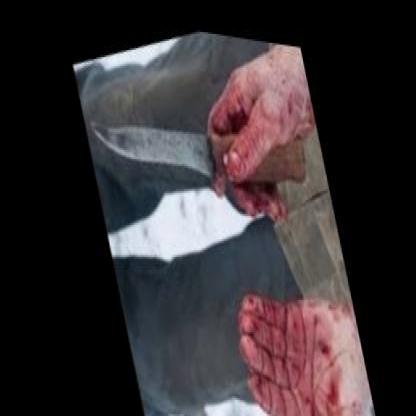knife: (80, 48, 248, 243)
